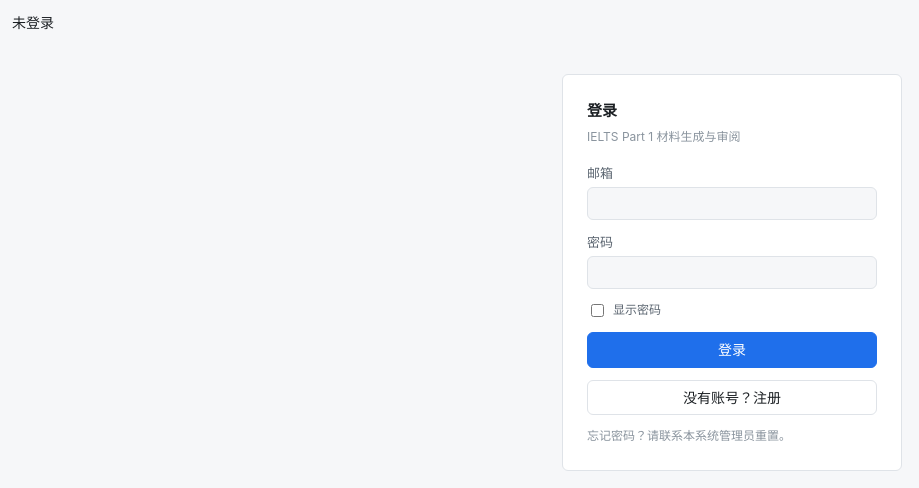
Test: login › signs in and returns the user to the page they were headed for
Expected: the button "登录" is shown, x1=587 y1=332 x2=877 y2=368
Type "a@amazon.com" into the field labelled "邮箱" at (732, 203), box x1=587 y1=187 x2=877 y2=220
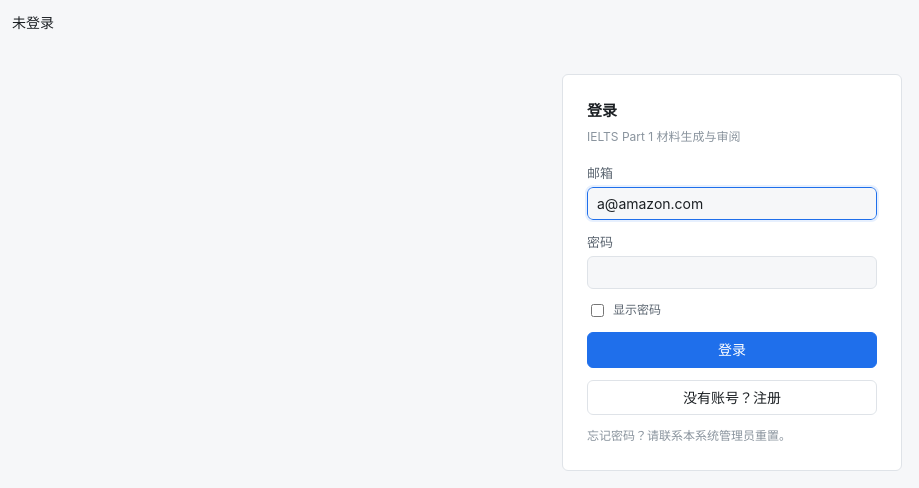
Type "hunter2hunter2" into the password field labelled "密码" at (732, 272), box x1=587 y1=256 x2=877 y2=289
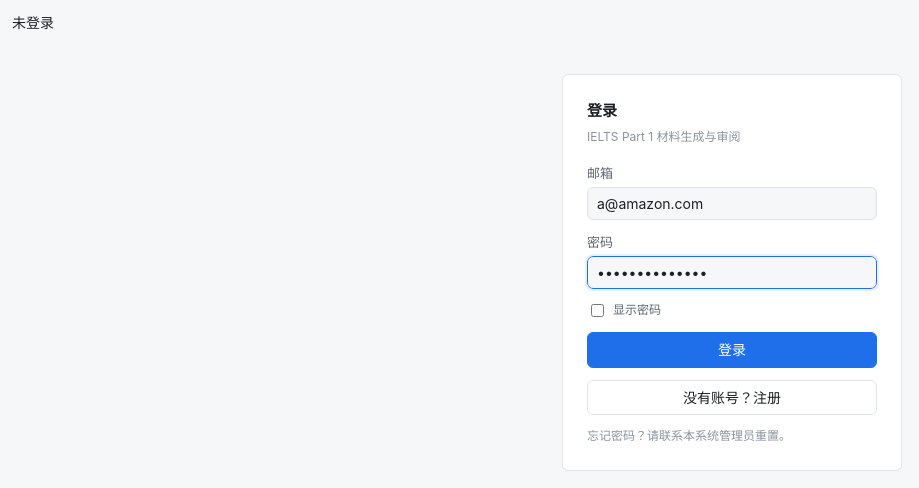
Click the button "登录" at (732, 350), box x1=587 y1=332 x2=877 y2=368
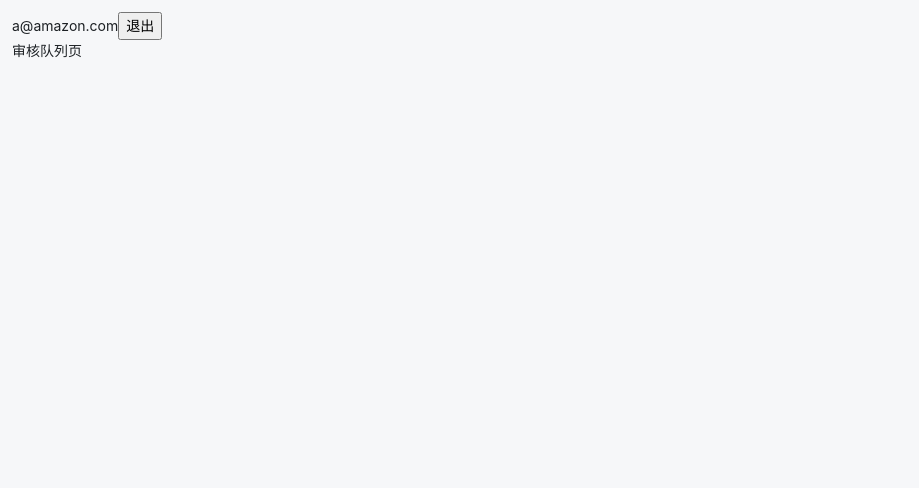
Now the text "审核队列页" is shown, box x1=12 y1=42 x2=82 y2=59
